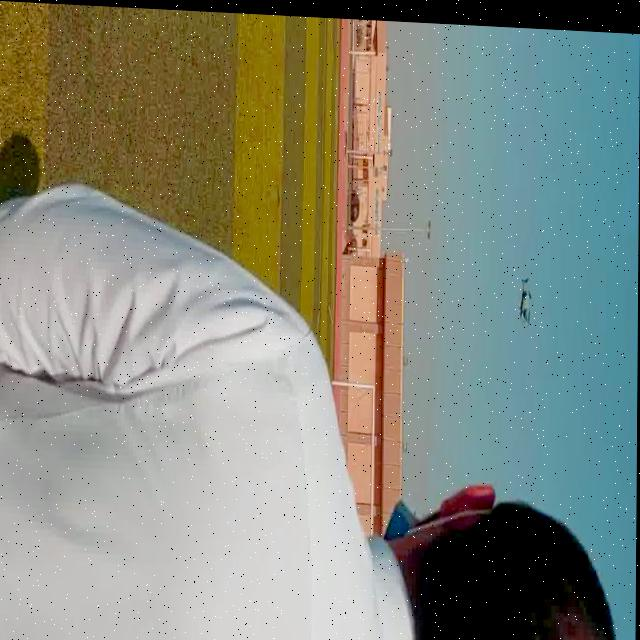drone: (515, 264, 536, 327)
